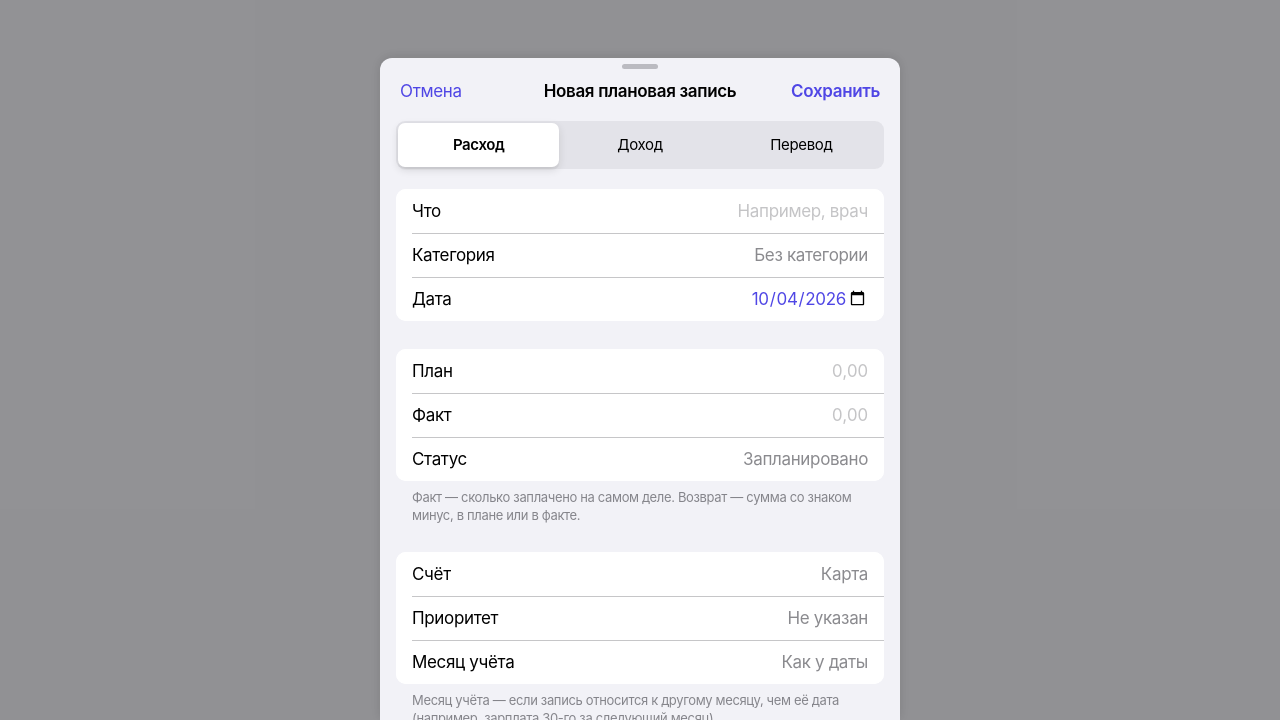
Test case: new journal row › says what is missing and saves nothing
Clear the date field labelled "Дата" at (666, 299), box [464,277,868,321]
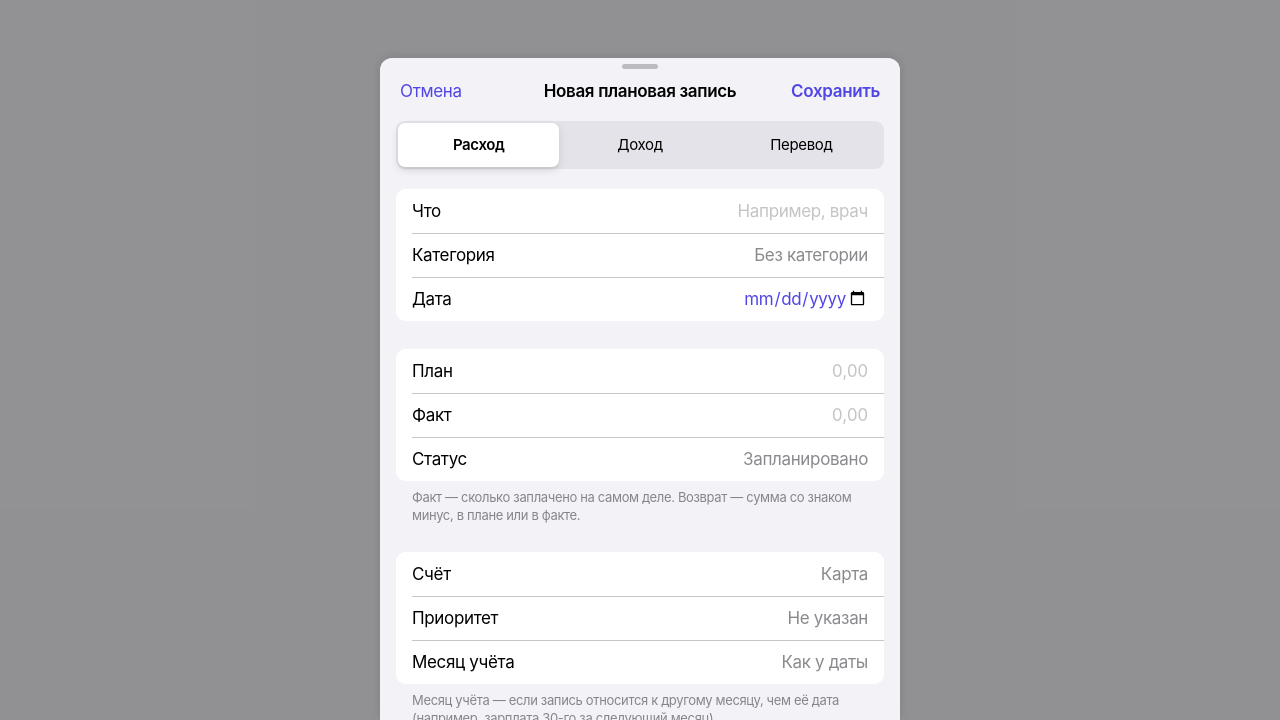
Click the button "Сохранить" at (836, 91), box [779,69,892,113]
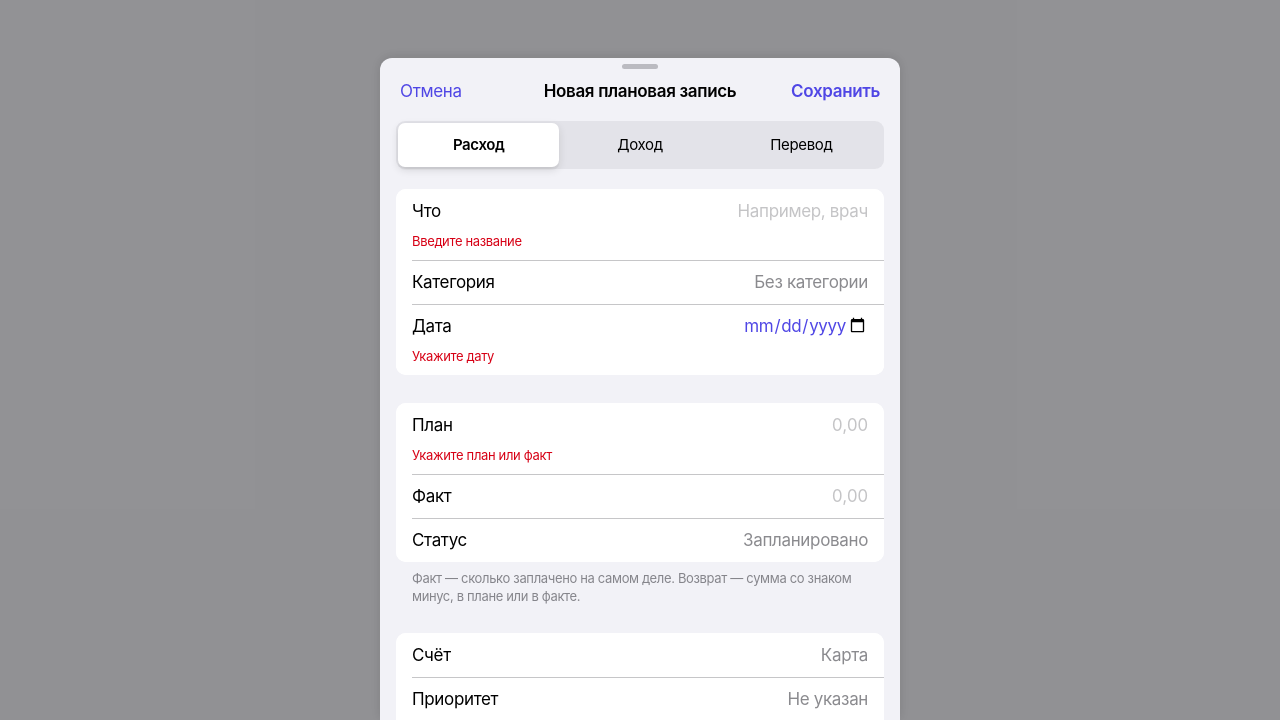
Now the text "Введите название" is shown, box [412,233,522,249]
Now the text "Укажите дату" is shown, box [412,348,494,364]
Now the text "Укажите план или факт" is shown, box [412,447,552,463]
